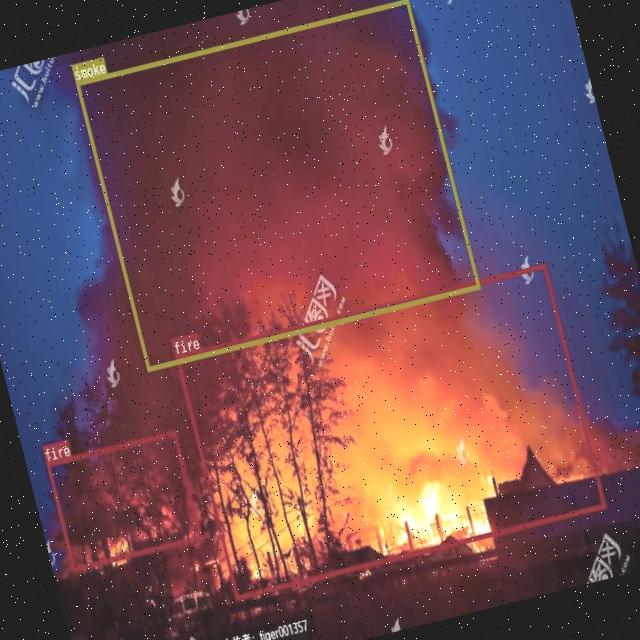fire: (174, 262, 605, 599), (45, 429, 202, 571)
smoke: (74, 0, 479, 370)
